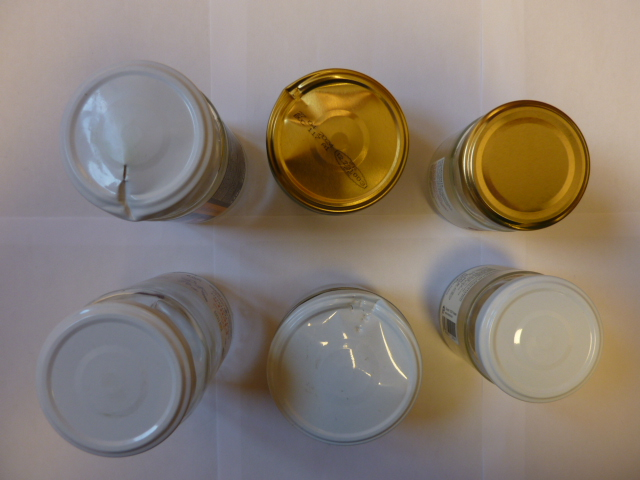damaged: (57, 59, 213, 222), (264, 292, 420, 443), (266, 66, 410, 213)
intact: (34, 302, 193, 459)
